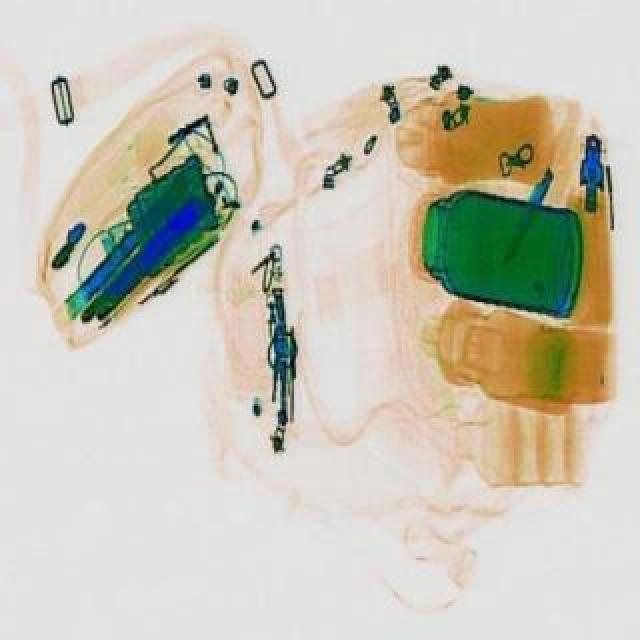knife: (494, 162, 556, 262)
